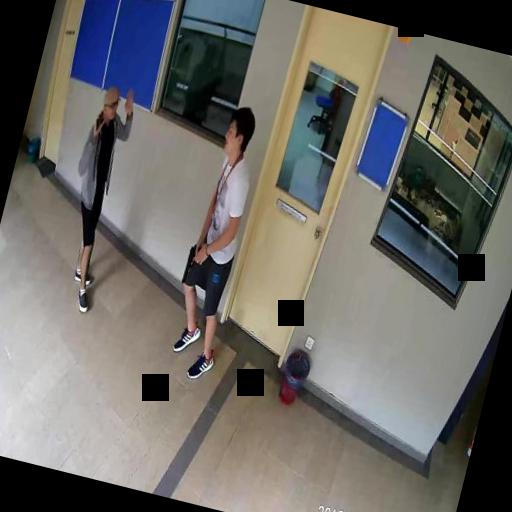Handgun: (181, 238, 206, 285)
